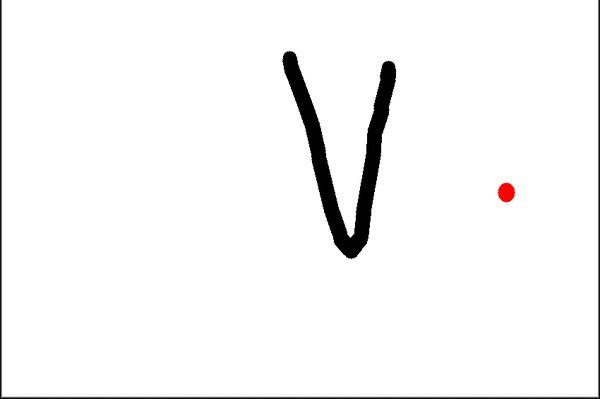V: (272, 52, 398, 259)
